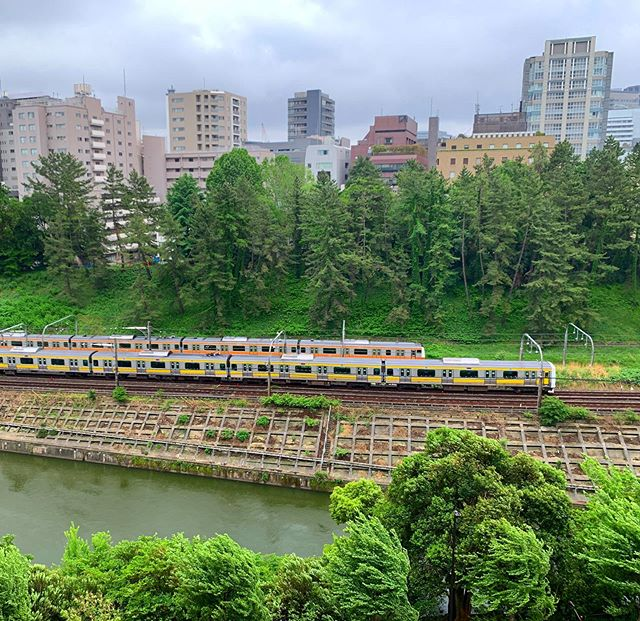building: (7, 93, 148, 189), (518, 44, 609, 175), (168, 84, 249, 178), (350, 108, 438, 179), (449, 111, 550, 171), (283, 89, 340, 189)
river: (1, 471, 368, 577)
sky: (18, 1, 525, 78)
train: (1, 317, 564, 395)
train track: (1, 385, 640, 410)
vegetation: (9, 141, 640, 331), (1, 465, 628, 621)
